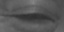LeftEyeFatigue: (2, 3, 62, 31)
